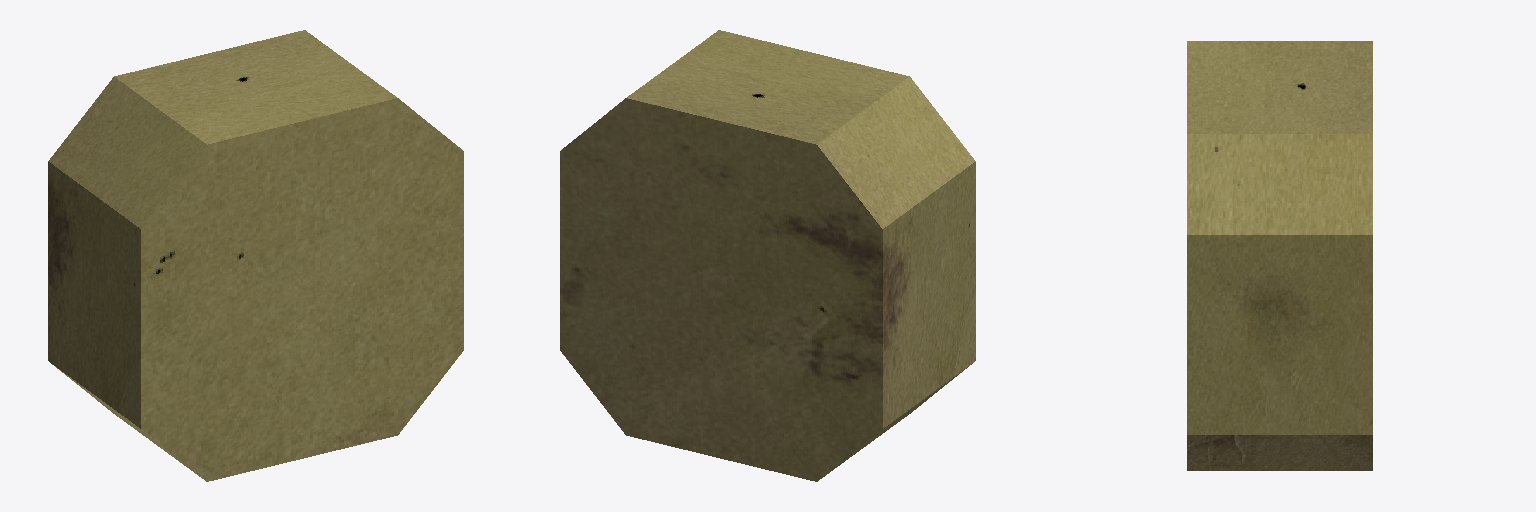
3 views of the same model, side by side, from view 1: azimuth 30°, elevation 25°; view 2: azimuth 150°, elevation 25°; view 3: azimuth 270°, elevation 25° (orthographic).
Visible parts, largest first — view 1: Cube; view 2: Cube; view 3: Cube.
Boxes of the visible parts, <box> form: Cube: <box>48,30,463,481</box>; Cube: <box>560,30,975,481</box>; Cube: <box>1187,41,1372,470</box>.
Bounding box in the file's own units: 0.8 × 0.8 × 0.4.
1 materials, 1 textured.